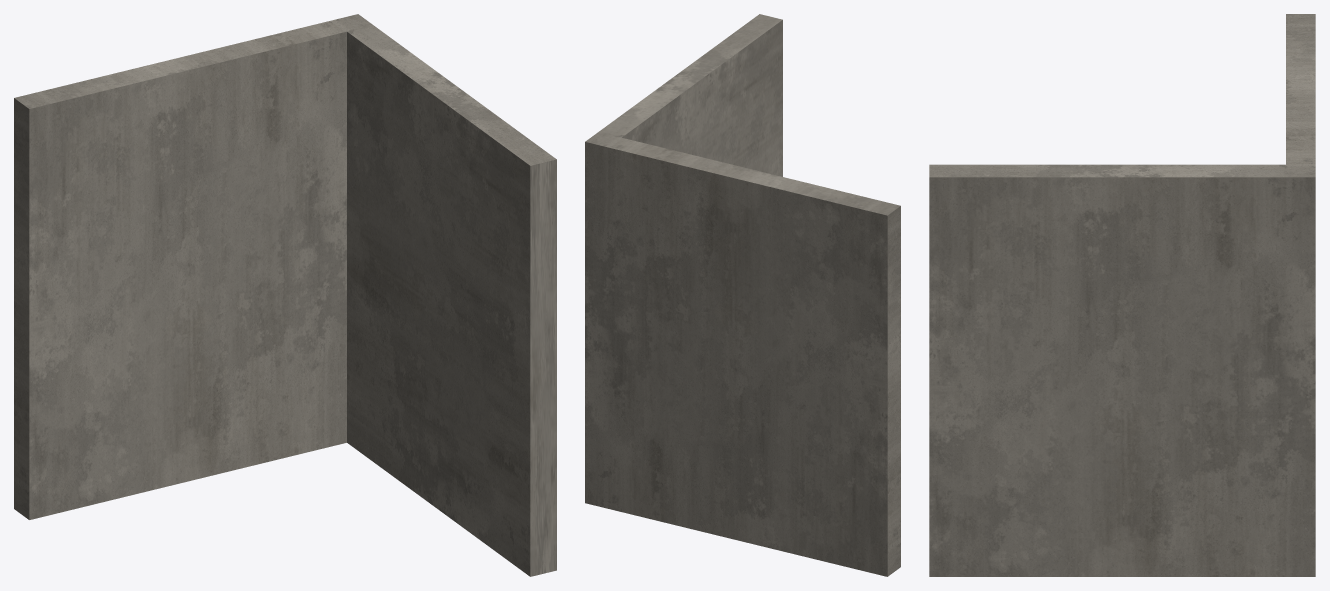
File: Modular_wall_Corner.fbx
The picture shows the model from 3 angles, left to right: view 1: azimuth 30°, elevation 25°; view 2: azimuth 150°, elevation 25°; view 3: azimuth 270°, elevation 25°; orthographic projection. The views are drawn at different scales.
Parts seen in each view (by area): view 1: Modular_wall_corner1; view 2: Modular_wall_corner1; view 3: Modular_wall_corner1.
Part boxes in pixels (left/top/right/bottom): Modular_wall_corner1: left=14, top=14, right=556, bottom=576; Modular_wall_corner1: left=585, top=14, right=900, bottom=576; Modular_wall_corner1: left=929, top=14, right=1315, bottom=576.
Size of the model in its own units: 325 by 371 by 325.
